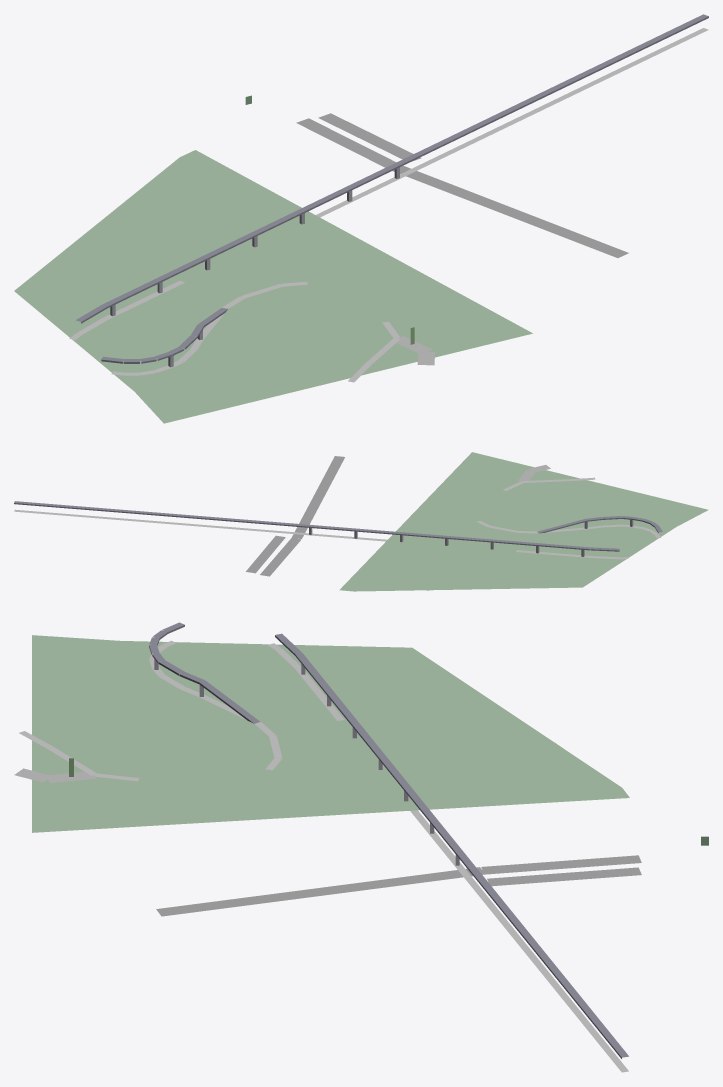
The picture shows the model from 3 angles, top to bottom: view 1: azimuth 30°, elevation 25°; view 2: azimuth 150°, elevation 25°; view 3: azimuth 270°, elevation 25°; orthographic projection. The views are drawn at different scales.
Size of the model in its own units: 391 by 8.98 by 263.
